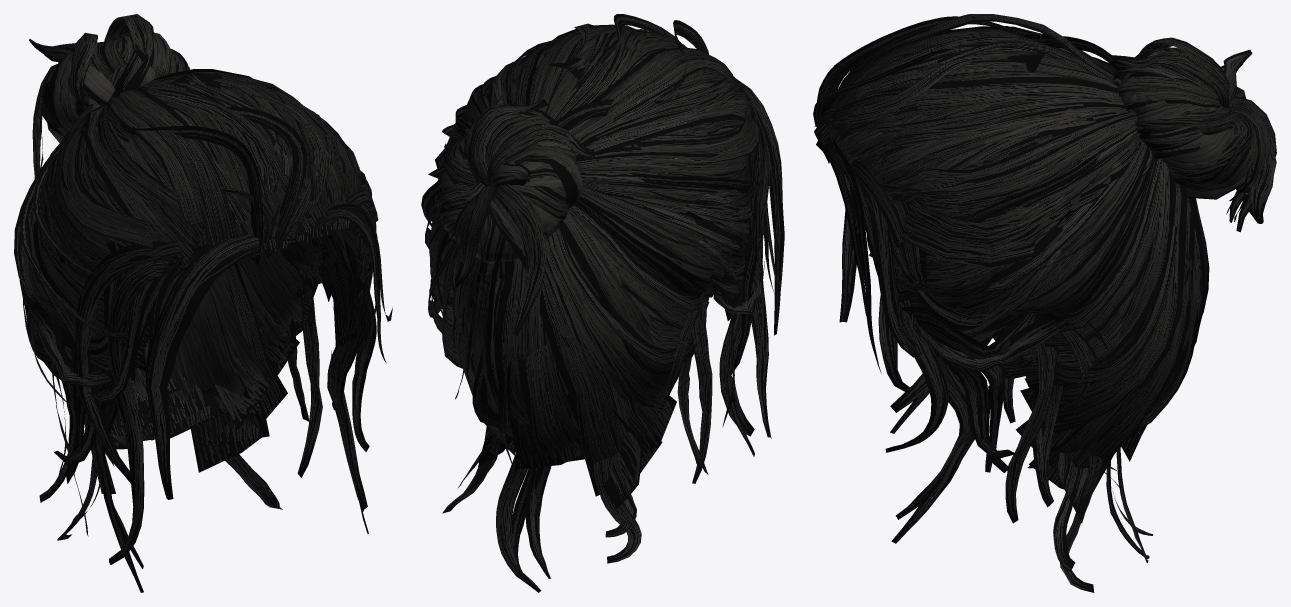
File: Hair_5.fbx
3 views of the same model, side by side, from view 1: azimuth 30°, elevation 25°; view 2: azimuth 150°, elevation 25°; view 3: azimuth 270°, elevation 25° (orthographic). The views are drawn at different scales.
Parts seen in each view (by area): view 1: avaturn_hair_1, avaturn_hair_0; view 2: avaturn_hair_1, avaturn_hair_0; view 3: avaturn_hair_1, avaturn_hair_0.
Part boxes in pixels (x1,y1,x2,y2): avaturn_hair_1: (14, 14, 392, 592); avaturn_hair_0: (29, 39, 365, 466); avaturn_hair_1: (421, 14, 784, 592); avaturn_hair_0: (440, 119, 738, 461); avaturn_hair_1: (813, 14, 1276, 592); avaturn_hair_0: (878, 49, 1252, 411).
Bounding box in the file's own units: 19.86 × 31.94 × 25.57.
